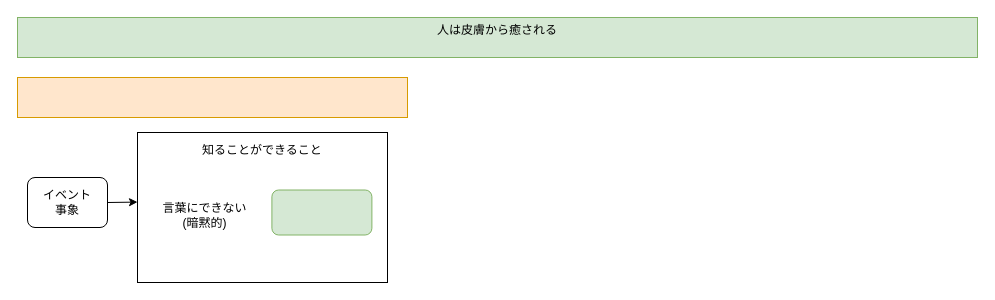
Some shapes in this 995 by 300 pixel diagram are drawn without their labels. Each missing label, with the box of its shape:
私たちは言葉にできるより 多くのことを知ることができる: (16, 76, 408, 118)
言葉にできる (形式的): (271, 189, 372, 235)
